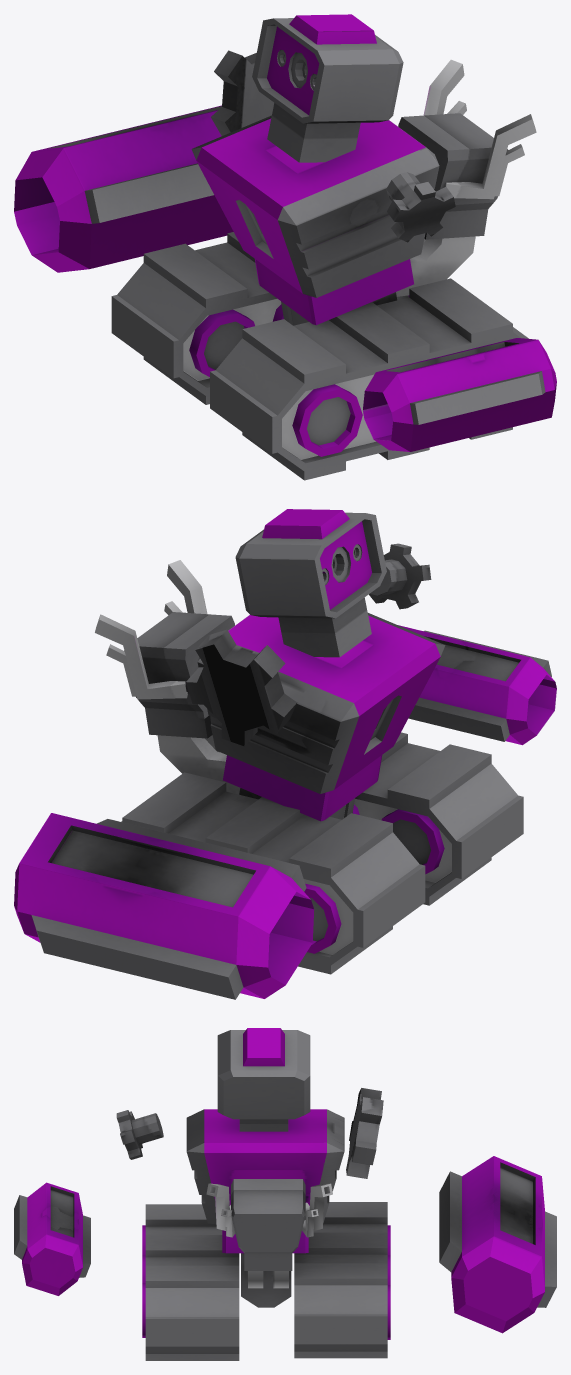
File: Enemy2_Die15.obj
3 views of the same model, one above another, from view 1: azimuth 30°, elevation 25°; view 2: azimuth 150°, elevation 25°; view 3: azimuth 270°, elevation 25° (orthographic). The views are drawn at different scales.
Visible parts, largest first — view 1: Object006, Object013, Object011, Object012, Object014, Object010, Object008, Object009; view 2: Object011, Object006, Object013, Object012, Object010, Object014, Object009, Object008; view 3: Object006, Object011, Object013, Object012, Object010, Object014, Object009, Object008.
Part boxes in pixels (x1,y1,x2,y2): Object006: (111,232,528,480); Object013: (191,115,439,325); Object011: (14,105,233,272); Object012: (252,14,403,162); Object014: (363,338,556,451); Object010: (396,59,536,296); Object008: (386,172,455,242); Object009: (211,50,274,135); Object011: (14,813,314,999); Object006: (121,732,523,974); Object013: (197,613,445,821); Object012: (235,509,386,657); Object010: (95,560,240,794); Object014: (398,625,556,745); Object009: (186,629,297,746); Object008: (369,543,431,609); Object006: (142,1202,390,1360); Object011: (439,1156,556,1333); Object013: (186,1109,344,1307); Object012: (217,1028,310,1131); Object010: (206,1179,332,1288); Object014: (14,1182,90,1295); Object009: (346,1088,383,1178); Object008: (116,1110,163,1159).
Bounding box in the file's own units: 99.22 × 116 × 199.
